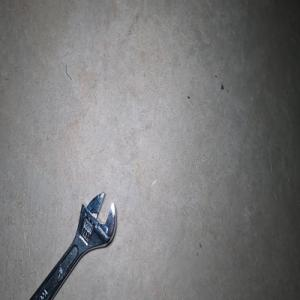Wrench: (29, 192, 116, 300)
